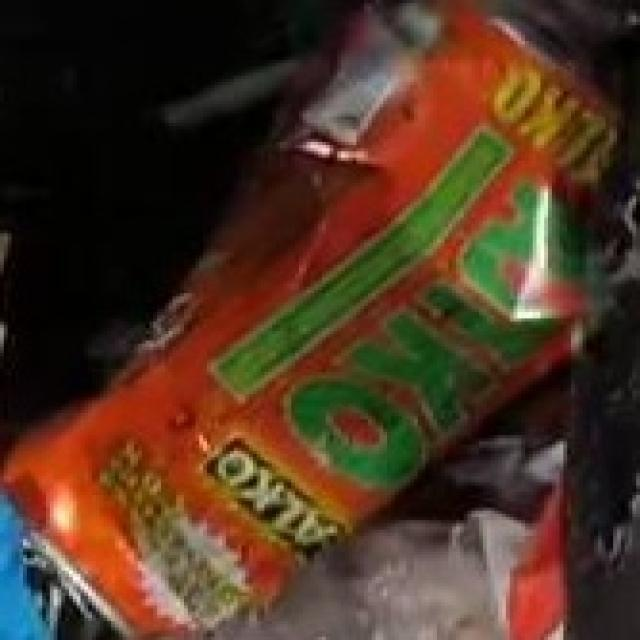litter: (0, 1, 640, 640)
